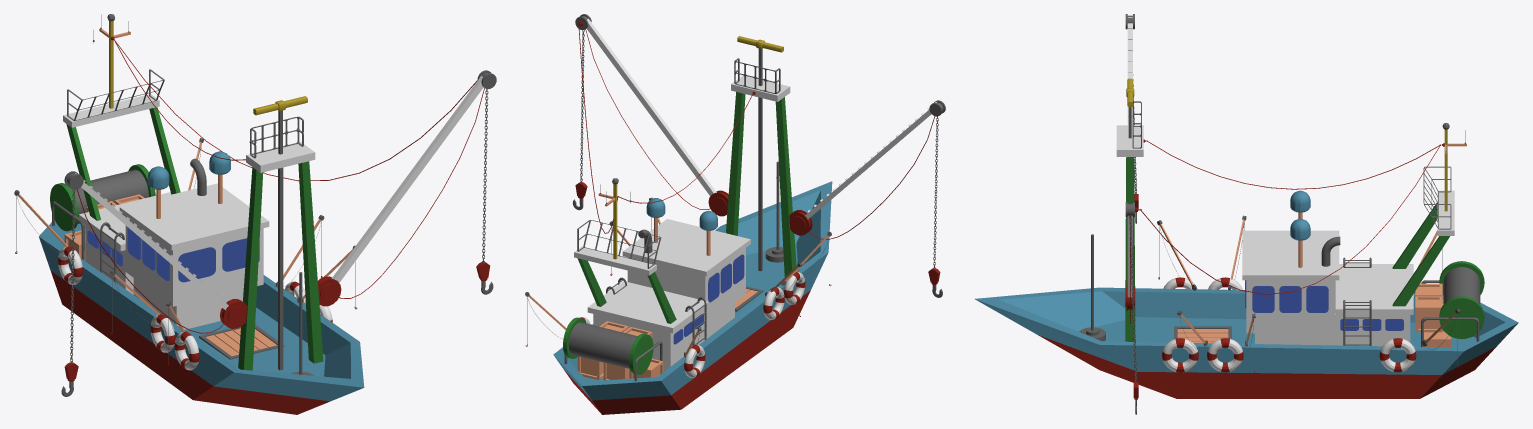
Rendered from bakground.glb.
3 renders of one model, left to right at view 1: azimuth 30°, elevation 25°; view 2: azimuth 150°, elevation 25°; view 3: azimuth 270°, elevation 25°, orthographic. The views are drawn at different scales.
Parts seen in each view (by area): view 1: Cube; view 2: Cube; view 3: Cube.
Part boxes in pixels (left/top/right/bottom): Cube: left=14, top=14, right=496, bottom=414; Cube: left=525, top=14, right=945, bottom=414; Cube: left=975, top=14, right=1518, bottom=414.
Size of the model in its own units: 34.32 by 23.04 by 40.17.
